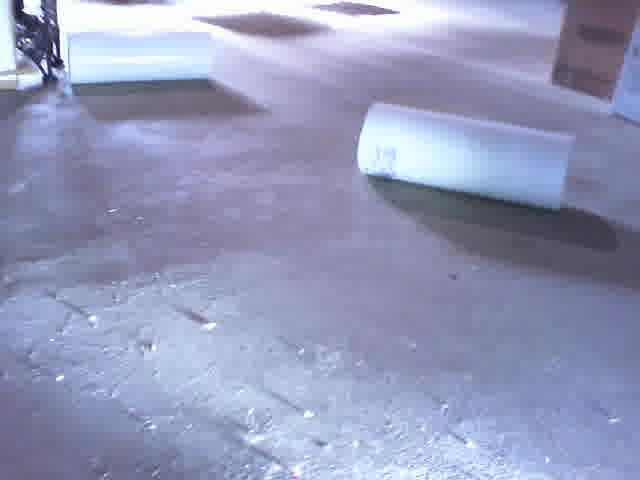coral: (359, 105, 575, 212), (68, 30, 214, 84)
